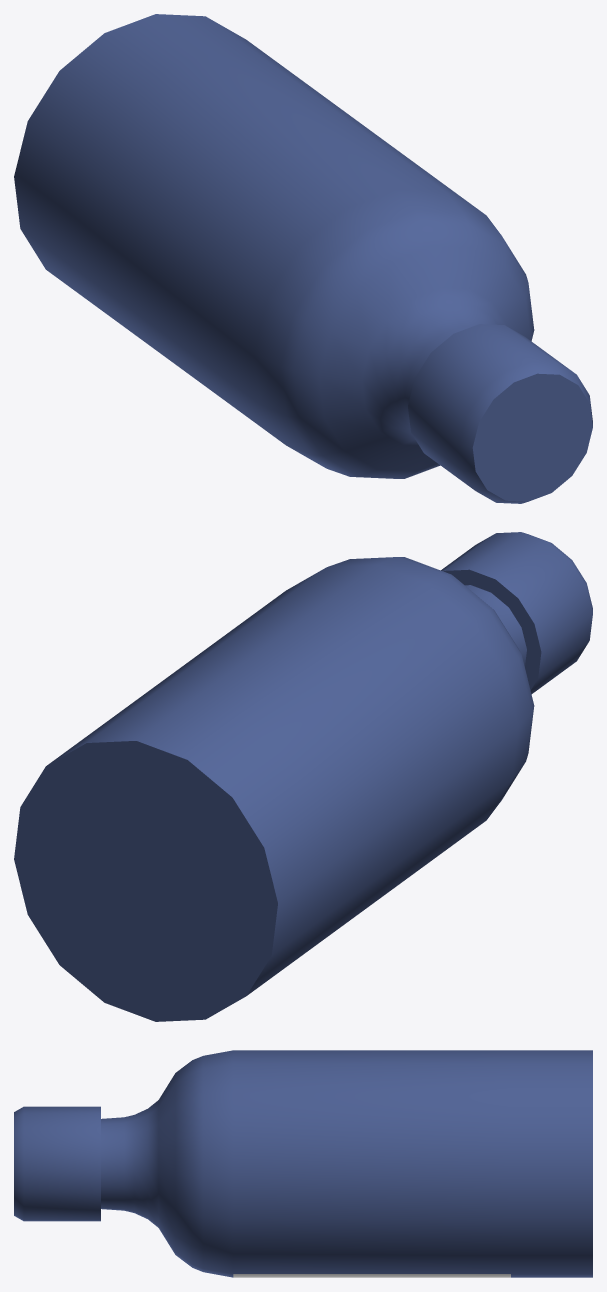
The picture shows the model from 3 angles, top to bottom: view 1: azimuth 30°, elevation 25°; view 2: azimuth 150°, elevation 25°; view 3: azimuth 270°, elevation 25°; orthographic projection. The views are drawn at different scales.
Parts seen in each view (by area): view 1: TAG_bouteille1; view 2: TAG_bouteille1; view 3: TAG_bouteille1.
Boxes of the visible parts, x1,y1,x2,y2 form: TAG_bouteille1: (14, 14, 592, 503); TAG_bouteille1: (14, 532, 592, 1021); TAG_bouteille1: (14, 1050, 592, 1277).
Size of the model in its own units: 0.1381 by 0.1381 by 0.3503.
